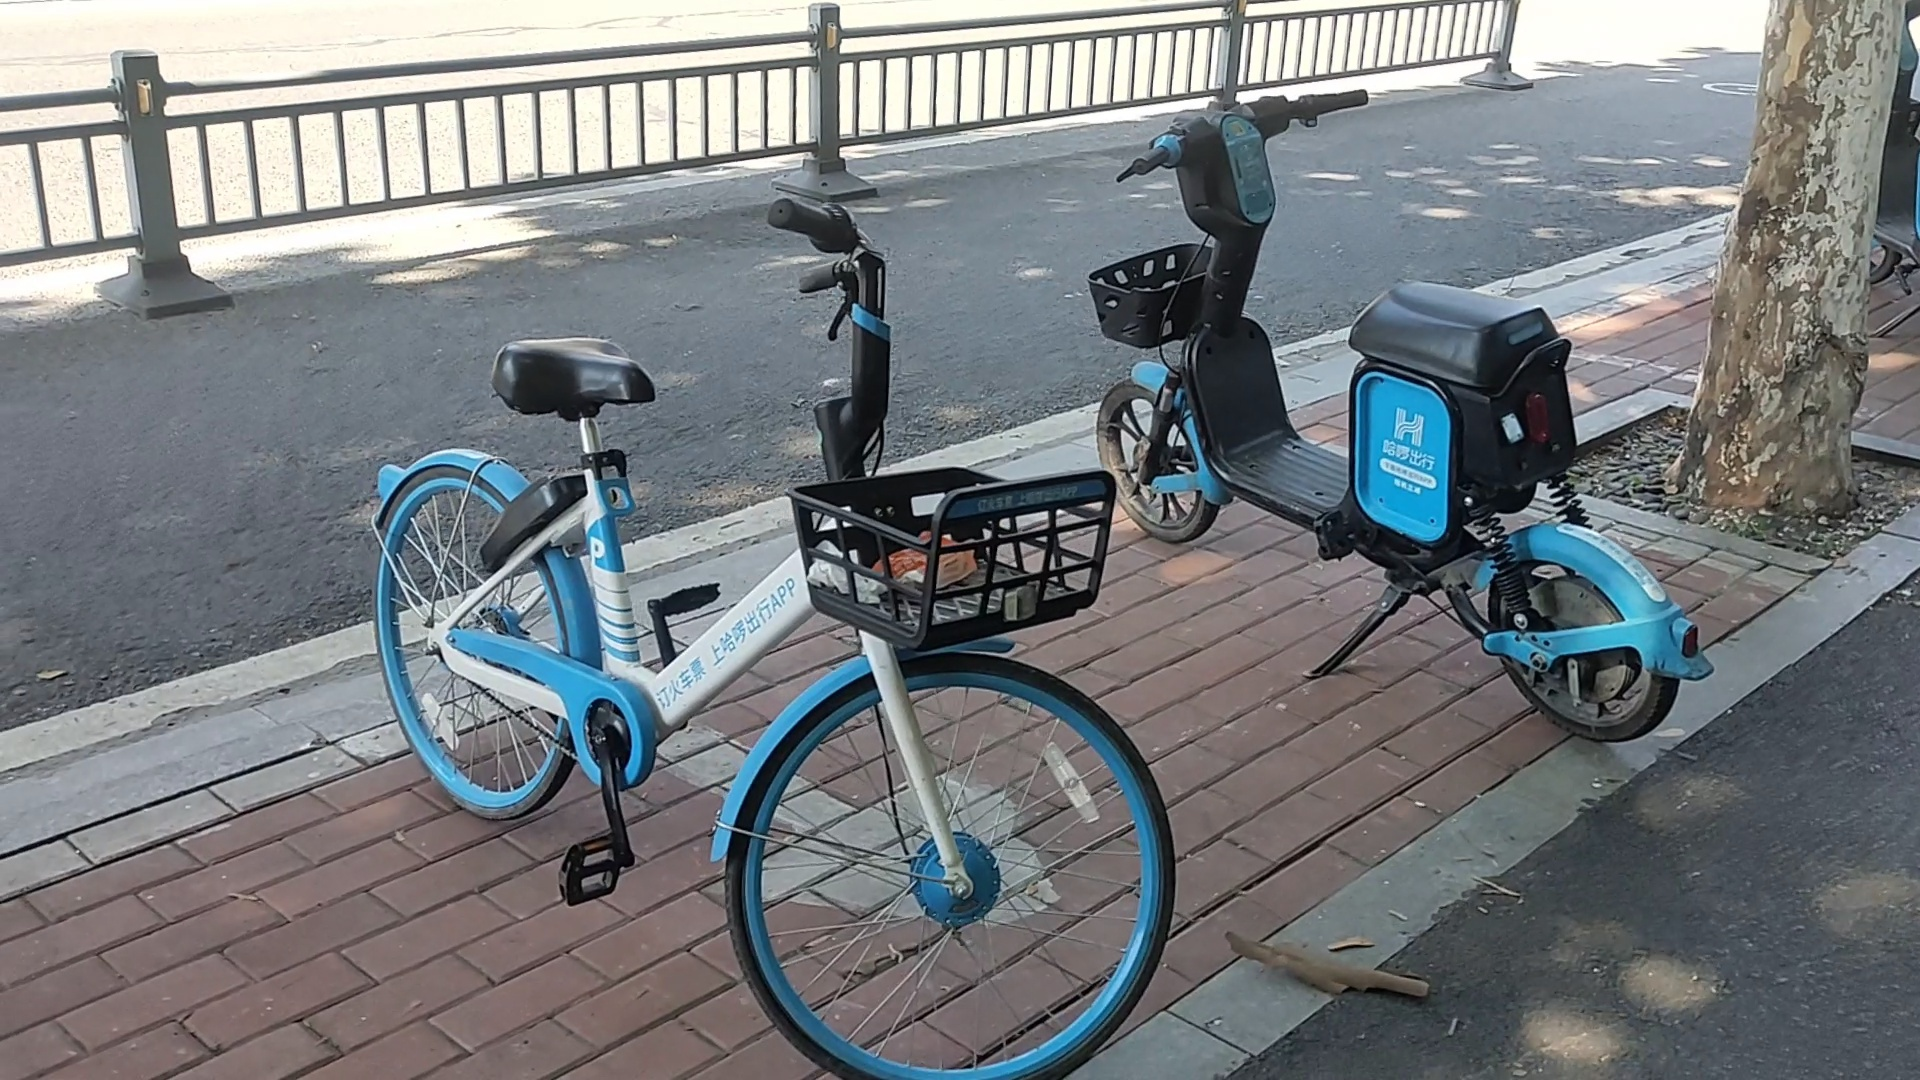non-vehicle: (359, 229, 1174, 1079), (1106, 65, 1714, 744)
